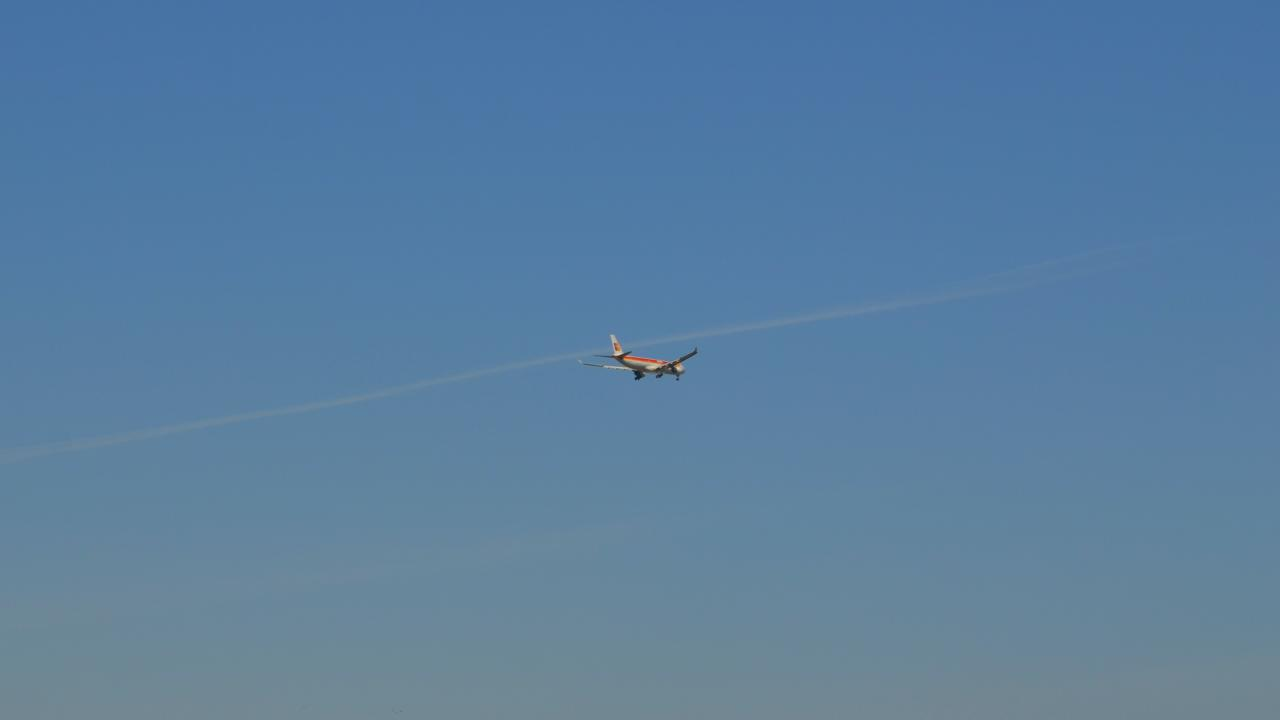Airplane: (578, 324, 706, 395)
